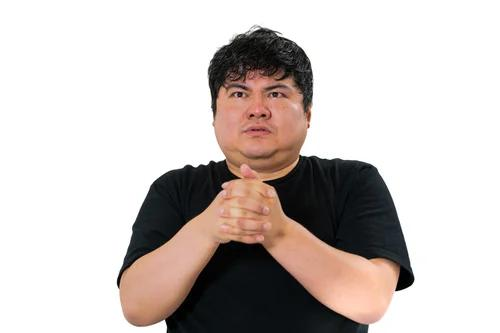human: (115, 26, 414, 333)
